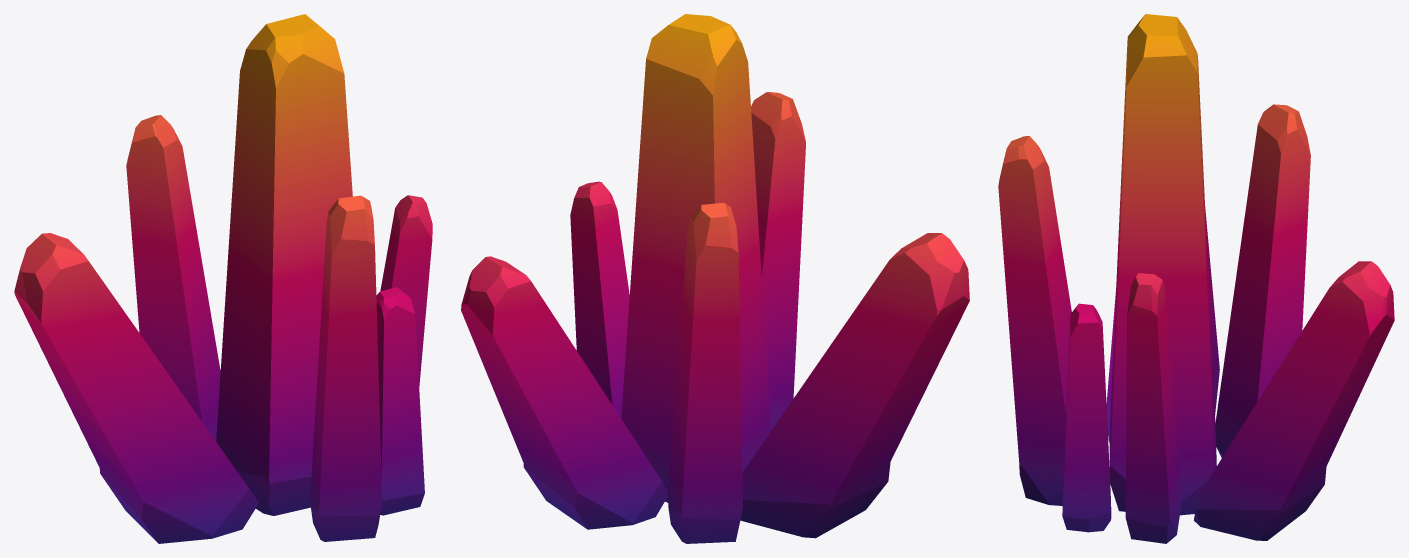
The model's file is cristales05.fbx.
The picture shows the model from 3 angles, left to right: view 1: azimuth 30°, elevation 25°; view 2: azimuth 150°, elevation 25°; view 3: azimuth 270°, elevation 25°; orthographic projection.
Parts seen in each view (by area): view 1: cristal02; view 2: cristal02; view 3: cristal02.
Boxes of the visible parts, x1,y1,x2,y2 form: cristal02: [14, 14, 432, 543]; cristal02: [461, 14, 969, 543]; cristal02: [998, 14, 1394, 543].
Bounding box in the file's own units: 1128 × 1253 × 965.
Materials: 1 (1 with a texture image).
